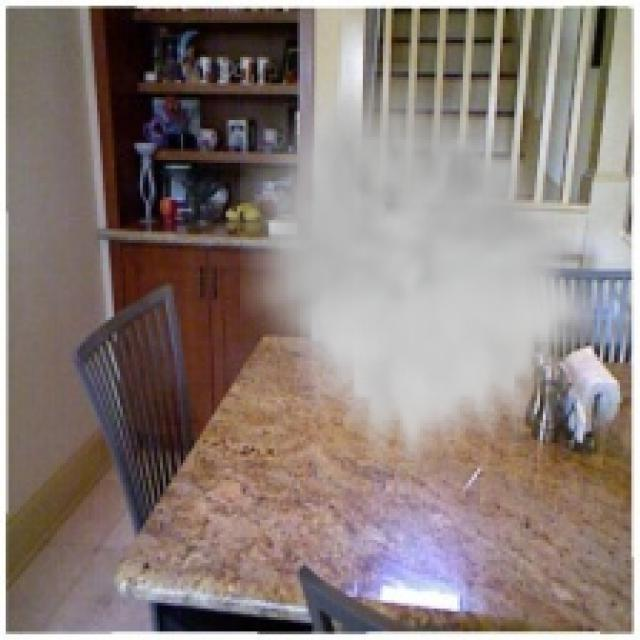Smoke: (240, 62, 594, 474)
